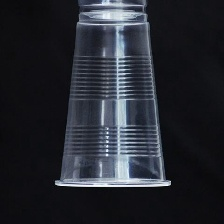glass: (50, 4, 176, 193)
